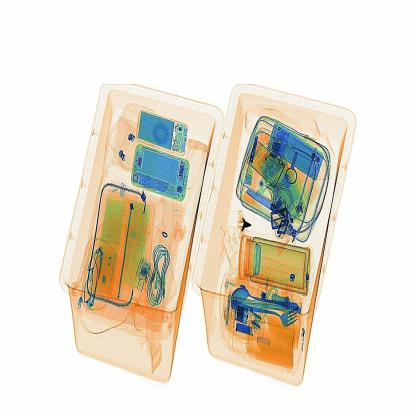gun: (232, 204, 254, 250)
